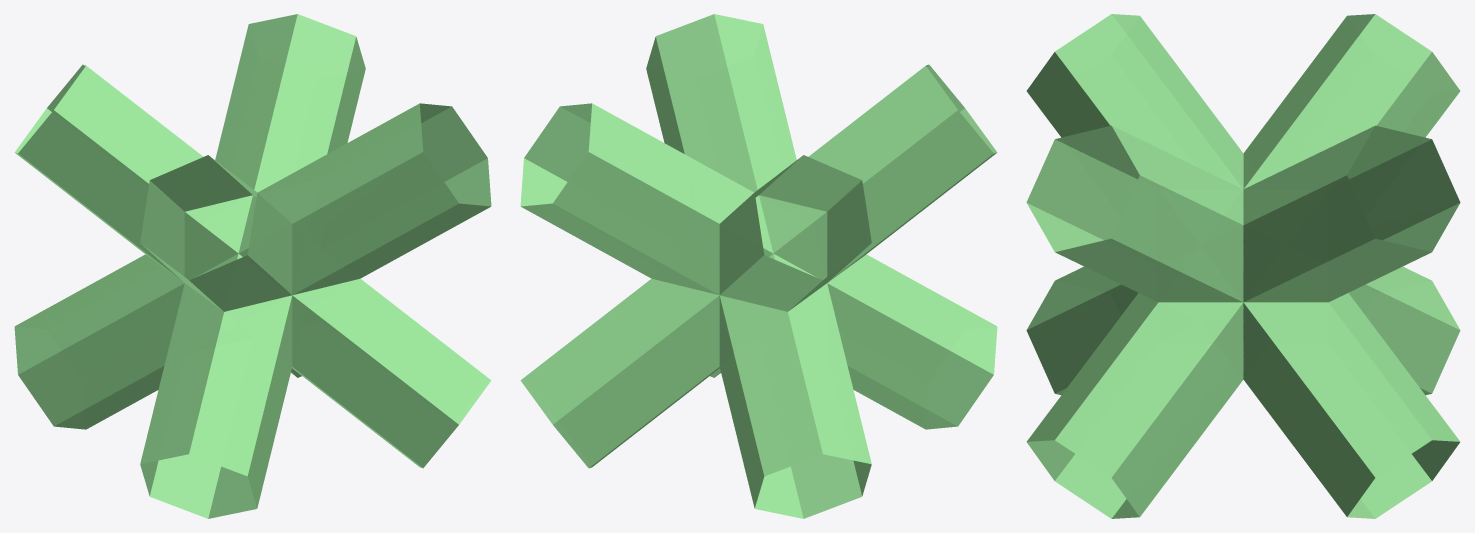
File: Octahemioctacron.obj
The picture shows the model from 3 angles, left to right: view 1: azimuth 30°, elevation 25°; view 2: azimuth 150°, elevation 25°; view 3: azimuth 270°, elevation 25°; orthographic projection. The views are drawn at different scales.
Size of the model in its own units: 6.25 by 6.25 by 6.25.
